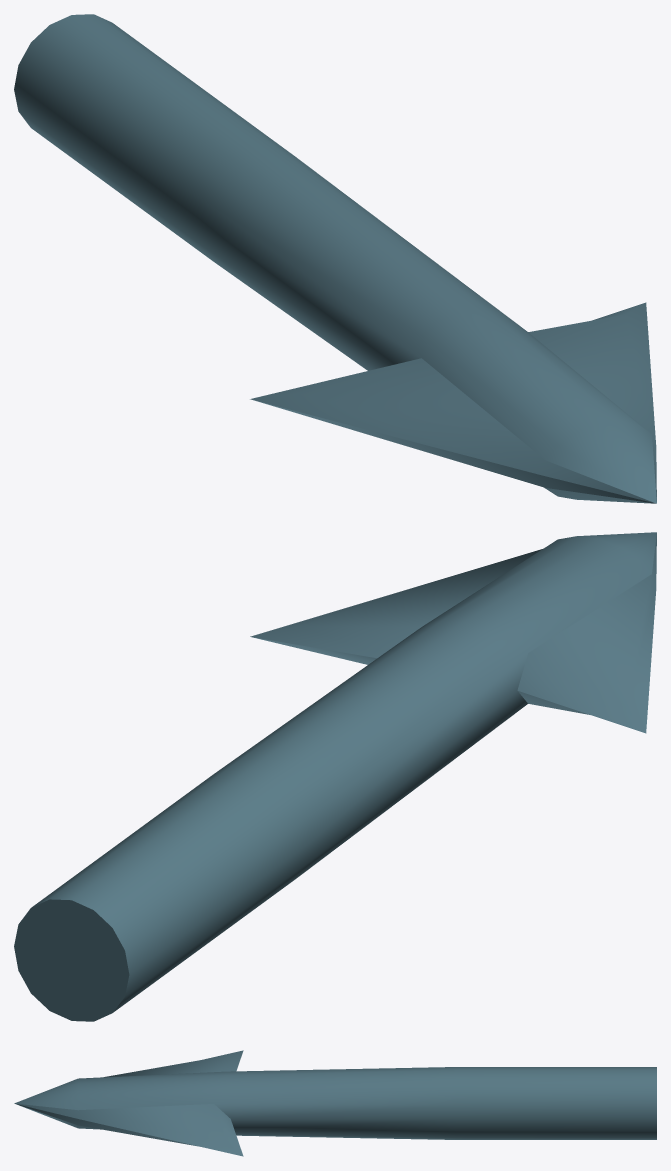
Rendered from harpoon-weapons-1-bullet.fbx.
3 renders of one model, top to bottom at view 1: azimuth 30°, elevation 25°; view 2: azimuth 150°, elevation 25°; view 3: azimuth 270°, elevation 25°, orthographic. The views are drawn at different scales.
Parts seen in each view (by area): view 1: BasicWepon1Bullet; view 2: BasicWepon1Bullet; view 3: BasicWepon1Bullet.
Boxes of the visible parts, <box> form: BasicWepon1Bullet: <box>14,14,656,503</box>; BasicWepon1Bullet: <box>14,532,656,1021</box>; BasicWepon1Bullet: <box>14,1050,656,1156</box>.
Size of the model in its own units: 68.93 by 176 by 20.07.
